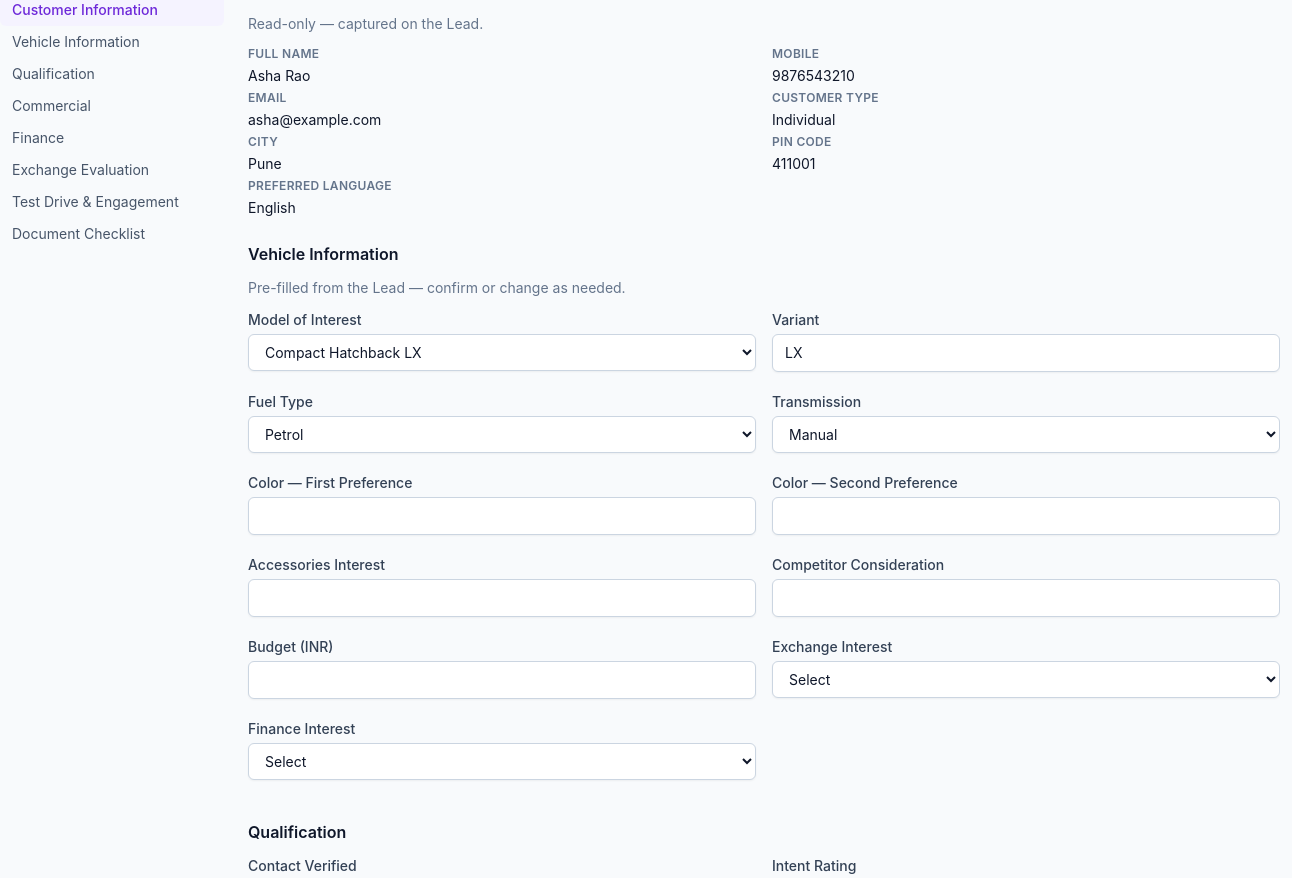
Test: ConvertLeadForm (issue #124 sectioned rewrite) › AC4/AC5: submitting only the 4 original required fields succeeds — every new field is optional
Expected: the text "Asha Rao" is shown, [248,67,310,84]
# variant is already pre-filled ('LX') by the Lead — only budget/exchange/finance need entering.
Type "500000" into the field labelled "Budget (INR)" at (502, 680), box [248,661,756,699]
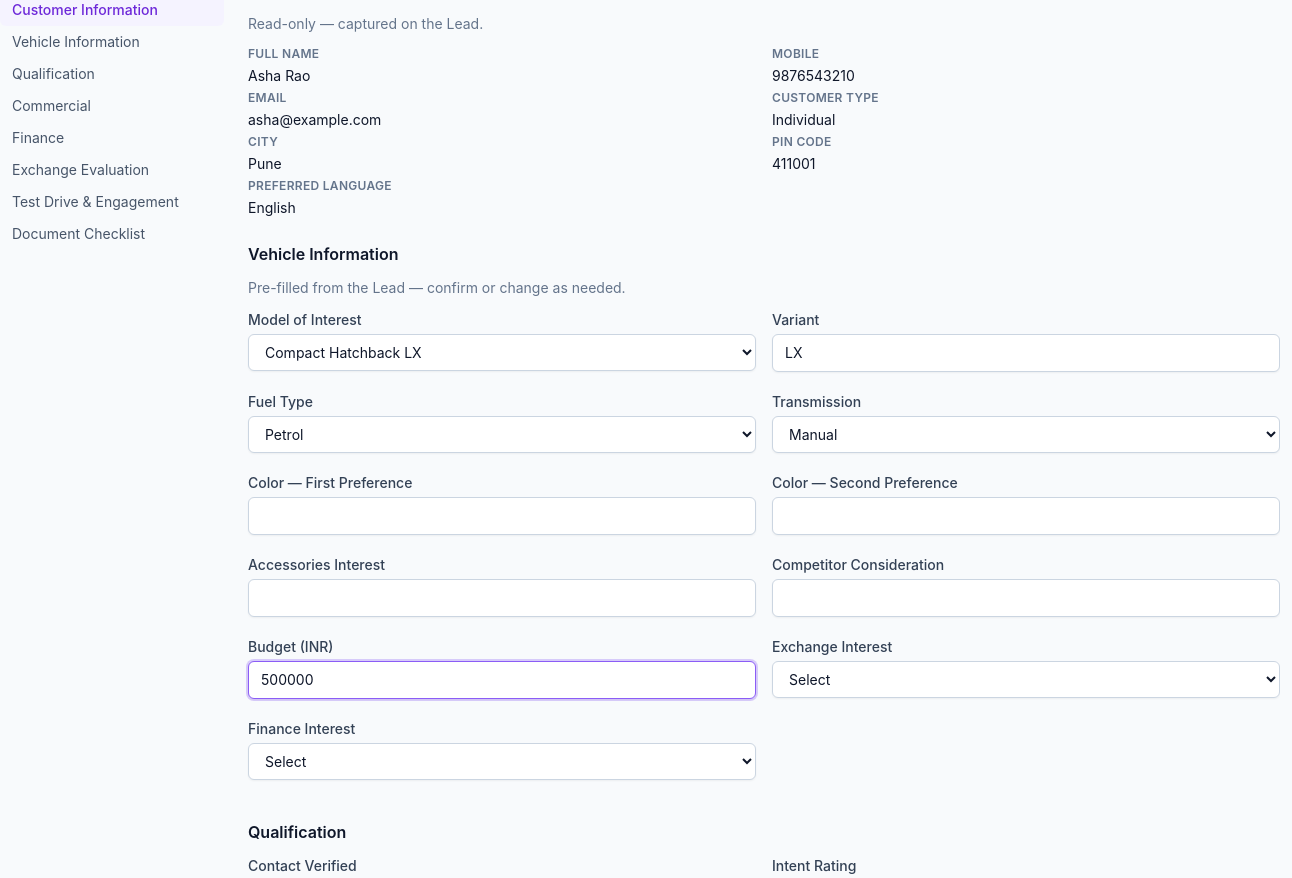
Select "Yes" in the dropdown labelled "Exchange Interest" at (1026, 680), box [772,661,1280,698]
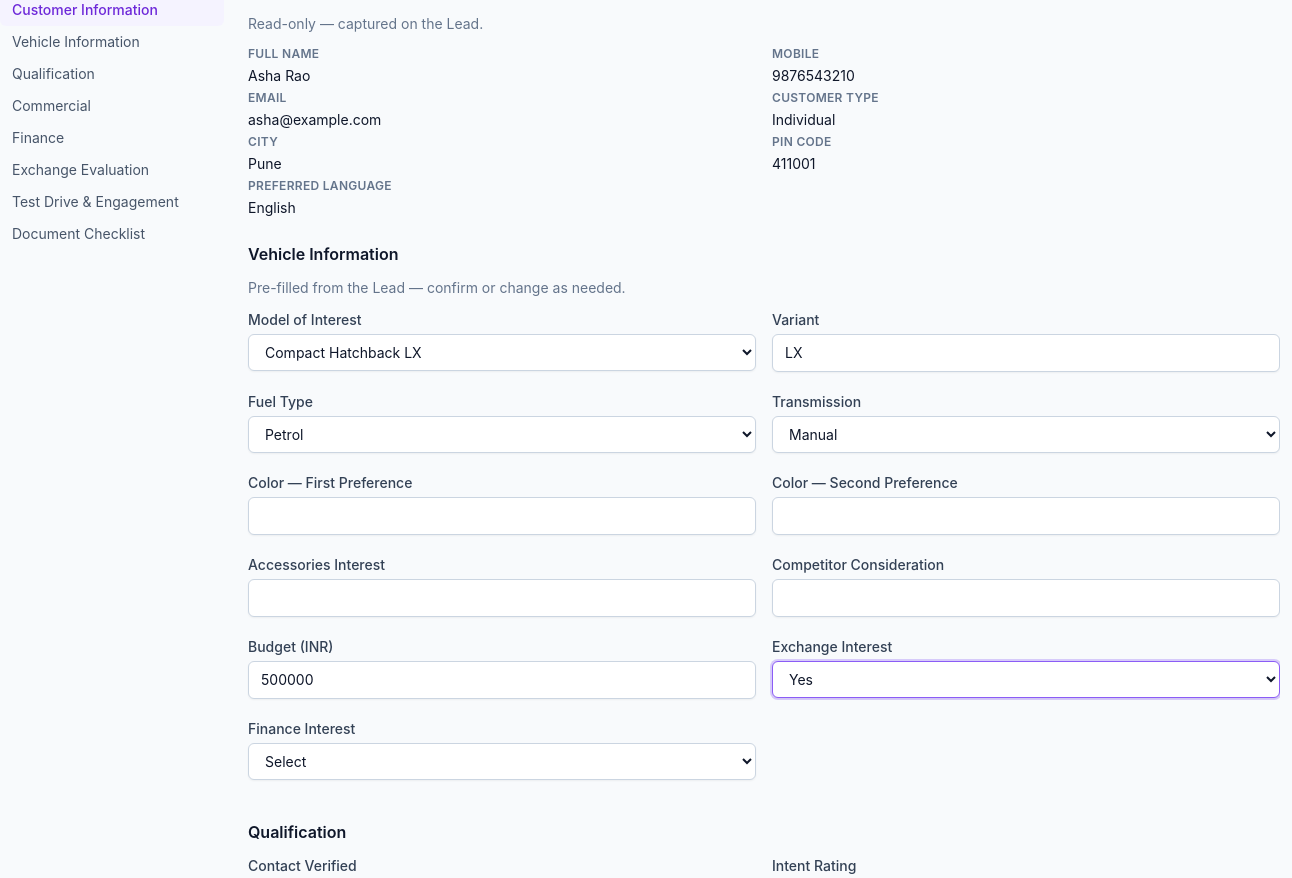
Select "No" in the dropdown labelled "Finance Interest" at (502, 762), box [248,743,756,780]
(page scrolled)
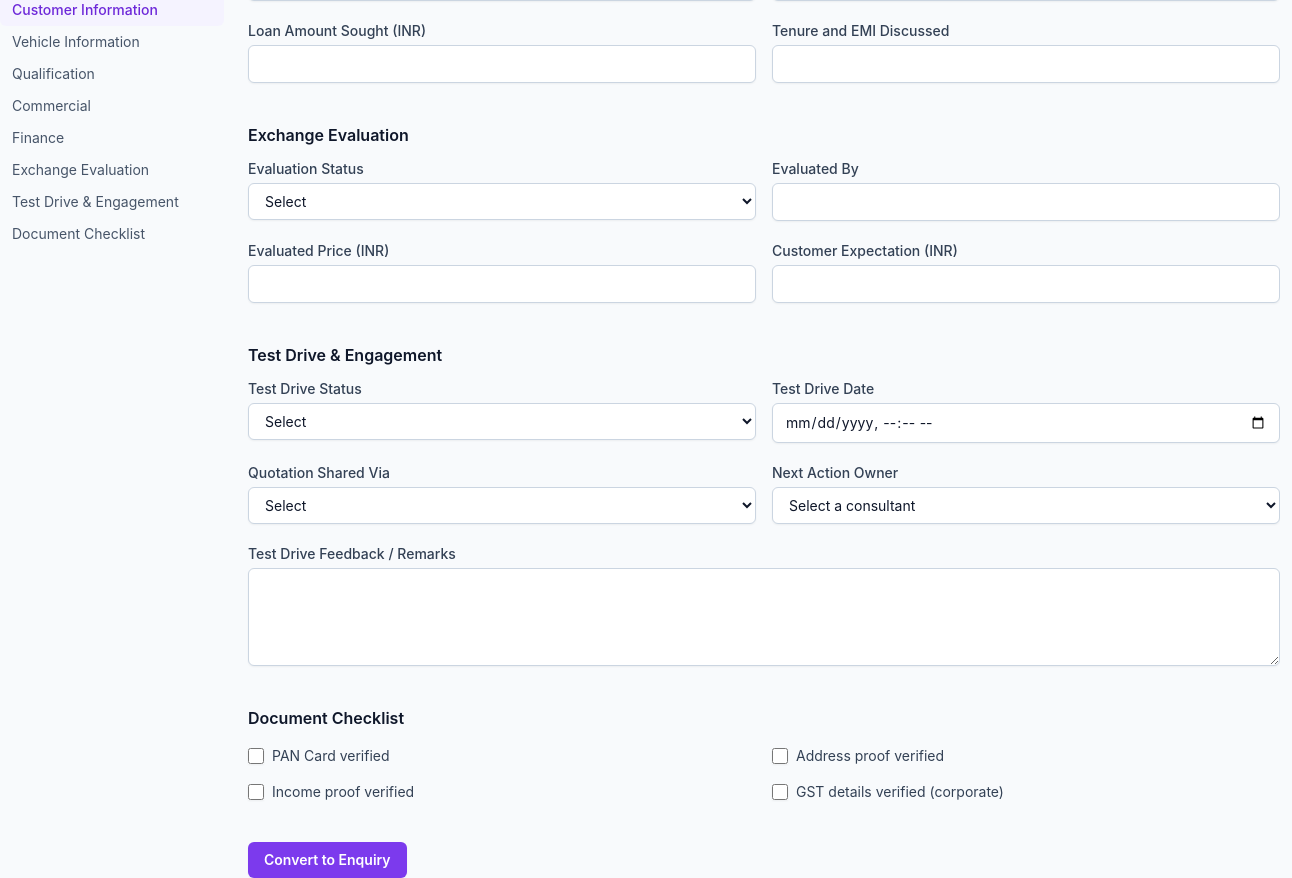
Click the button "Convert to Enquiry" at (327, 860), box [248,842,407,877]
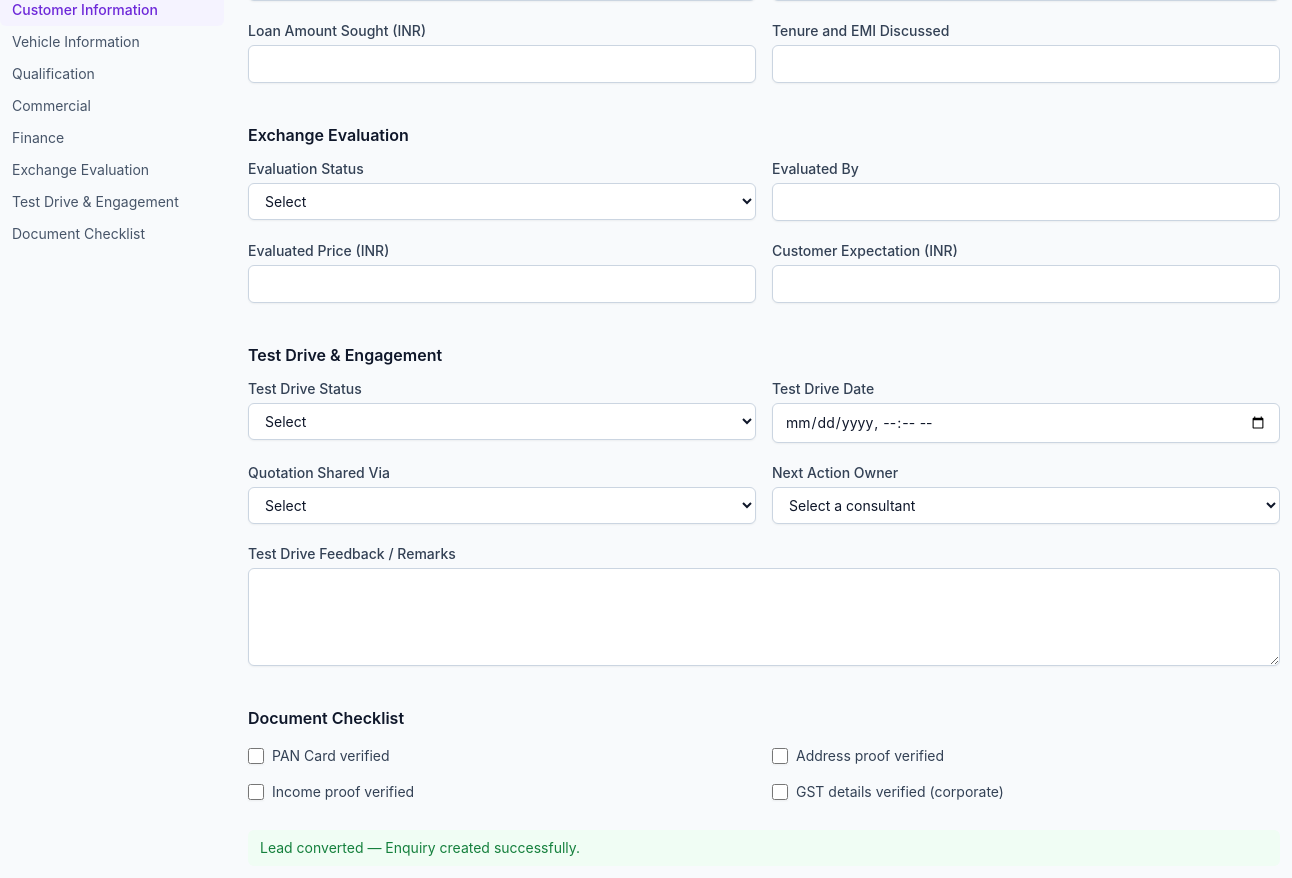
Result: the text "Lead converted — Enquiry created successfully." is shown at [248,830,1280,866]
